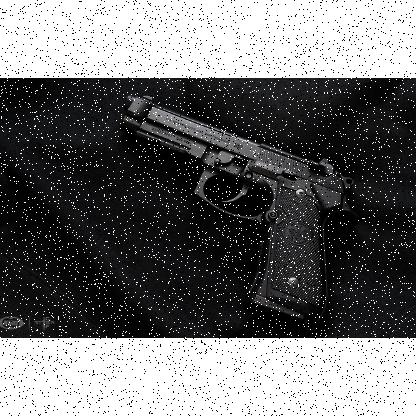gun: (116, 93, 360, 332)
